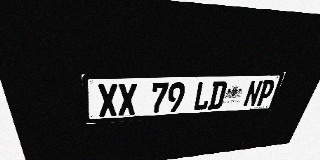7: (149, 82, 169, 114)
9: (166, 82, 186, 112)
D: (207, 81, 228, 110)
L: (192, 81, 213, 111)
N: (242, 80, 264, 107)
P: (255, 80, 277, 106)
X: (97, 84, 118, 117), (118, 83, 137, 116)
